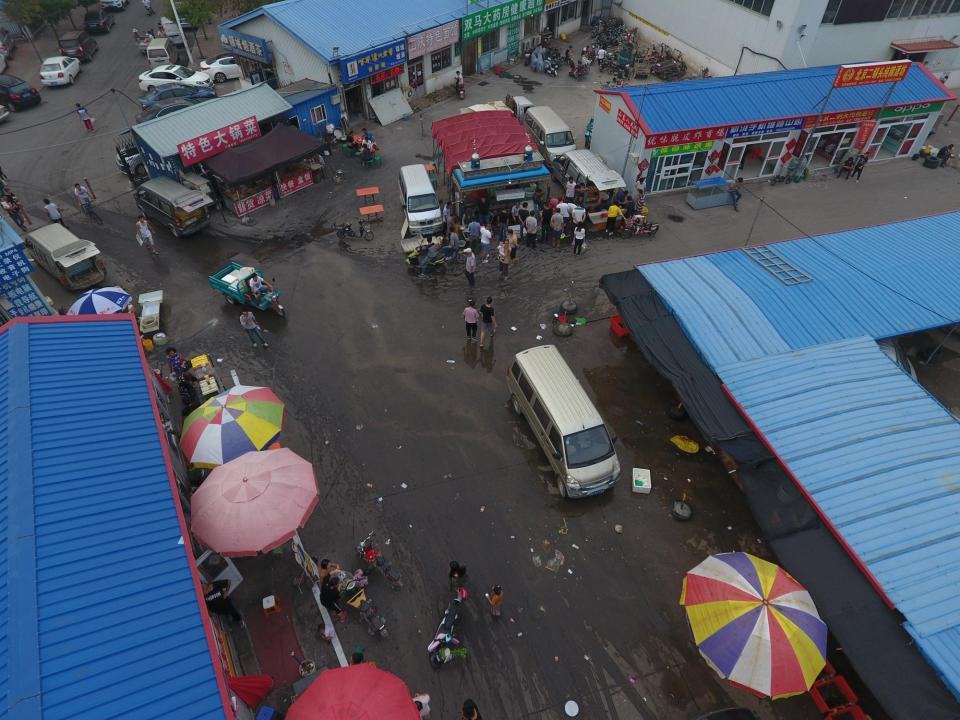car: (116, 129, 223, 174), (138, 82, 218, 114), (135, 98, 213, 130), (200, 50, 277, 82), (138, 64, 214, 92), (0, 73, 42, 110), (57, 30, 99, 62), (39, 56, 82, 86), (82, 8, 116, 33), (174, 0, 200, 28)
truck: (460, 93, 536, 131)
van: (506, 344, 621, 498), (25, 222, 106, 290), (133, 176, 214, 237), (550, 149, 626, 209), (523, 105, 577, 168), (397, 164, 444, 236), (147, 38, 180, 74), (158, 16, 186, 45)
